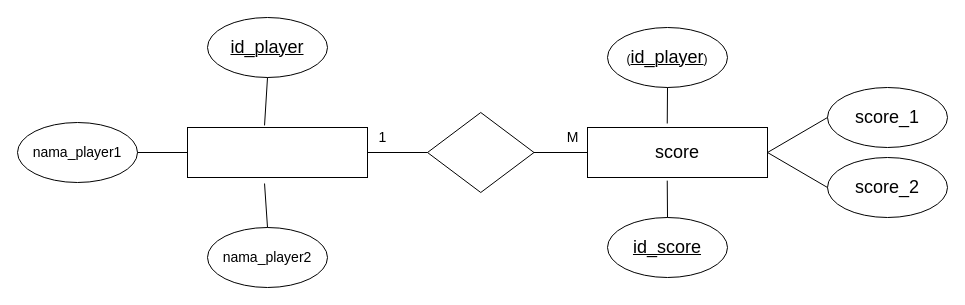
Image size: 965x305. Some labels were removed from this diagram. The shapes that lost their labels are listed below. From the top down, each one's box as (x1, y1, x2, y2) in pixels, then its label:
(186, 126, 368, 178): player
(426, 112, 534, 192): memiliki
